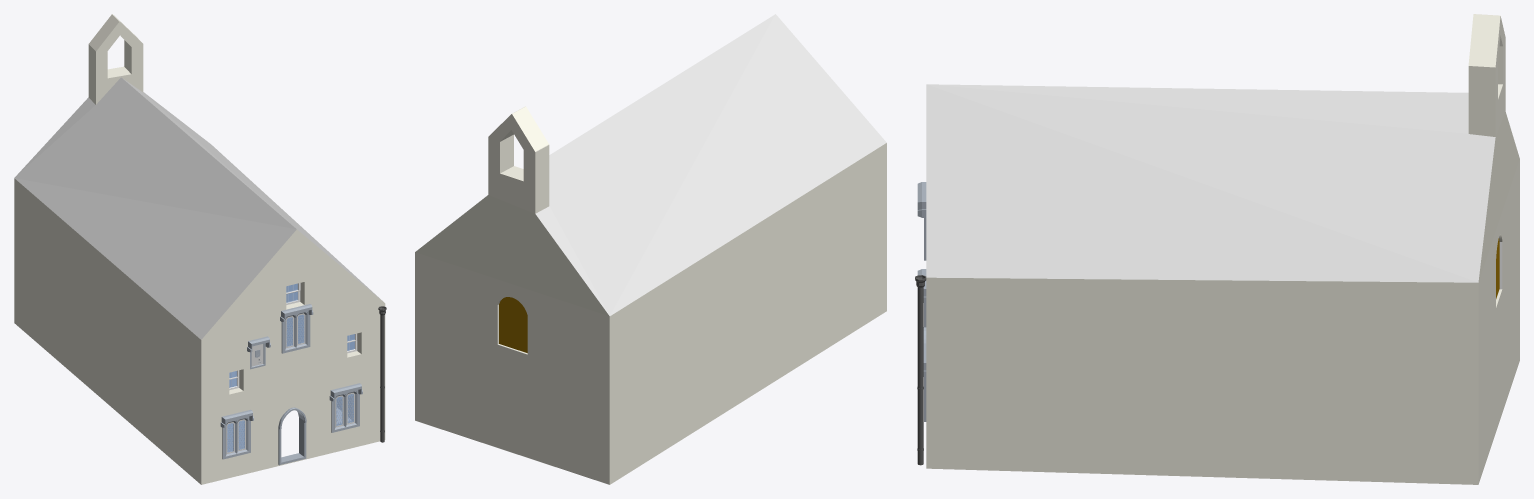
The picture shows the model from 3 angles, left to right: view 1: azimuth 30°, elevation 25°; view 2: azimuth 150°, elevation 25°; view 3: azimuth 270°, elevation 25°; orthographic projection. The views are drawn at different scales.
Parts seen in each view (by area): view 1: SketchUp.013_ID274, SketchUp.011_ID255, SketchUp.100_ID812, SketchUp.056_ID536, SketchUp.138_ID1051, SketchUp.012_ID268; view 2: SketchUp.013_ID274, SketchUp.011_ID255, SketchUp.060_ID560, SketchUp.012_ID268; view 3: SketchUp.013_ID274, SketchUp.011_ID255, SketchUp.056_ID536.
Part boxes in pixels (x1,y1,x2,y2): SketchUp.013_ID274: (14,14,385,484); SketchUp.011_ID255: (14,77,382,339); SketchUp.100_ID812: (278,407,306,465); SketchUp.056_ID536: (380,315,384,442); SketchUp.138_ID1051: (329,383,362,432); SketchUp.012_ID268: (107,40,131,78); SketchUp.013_ID274: (415,106,886,484); SketchUp.011_ID255: (535,14,886,315); SketchUp.060_ID560: (499,297,527,352); SketchUp.012_ID268: (500,130,523,181); SketchUp.013_ID274: (926,14,1519,484); SketchUp.011_ID255: (926,84,1495,282); SketchUp.056_ID536: (917,287,923,465).
Bounding box in the file's own units: 7.96 × 10.68 × 14.37.
